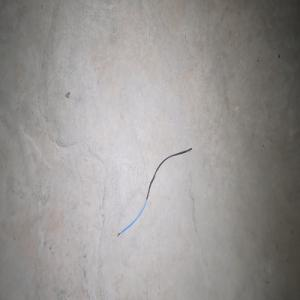Wire: (116, 147, 192, 236)
